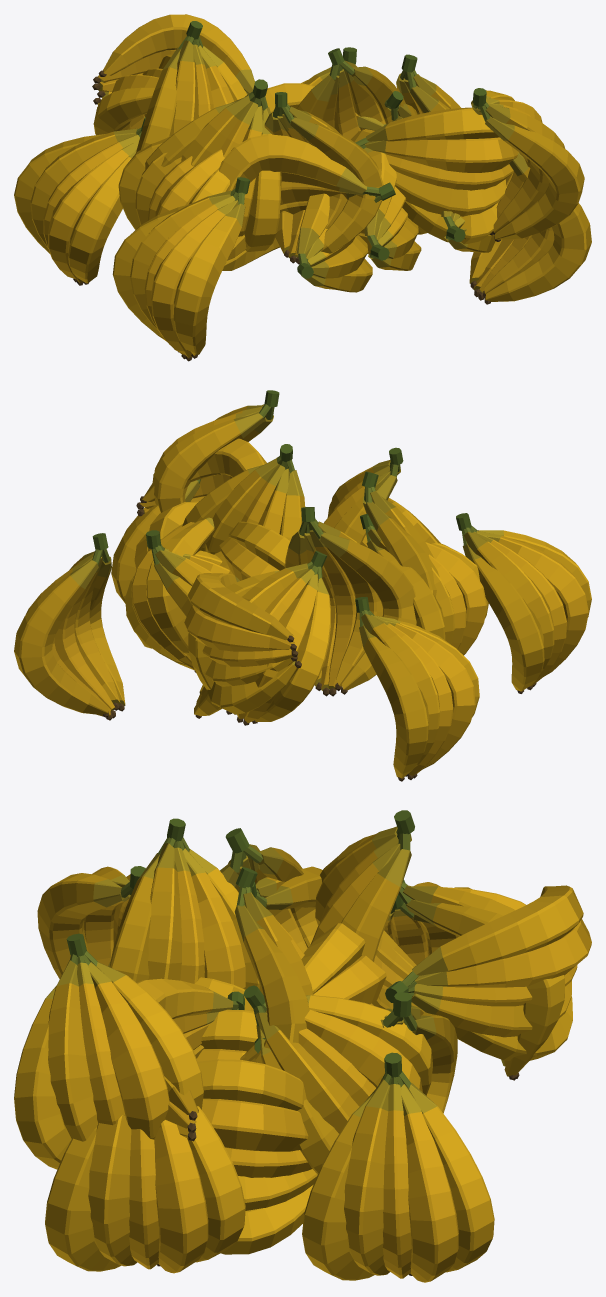
Rendered from bananaRack.glb.
3 views of the same model, one above another, from view 1: azimuth 30°, elevation 25°; view 2: azimuth 150°, elevation 25°; view 3: azimuth 270°, elevation 25° (orthographic). The views are drawn at different scales.
Visible parts, largest first — view 1: CargoBundle16, CargoBundle04, CargoBundle18, CargoBundle11, CargoBundle17, CargoBundle12, CargoBundle10, CargoBundle09, CargoBundle15, CargoBundle03, CargoBundle07, CargoBundle13 (+7 smaller); view 2: CargoBundle16, CargoBundle18, CargoBundle19, CargoBundle15, CargoBundle07, CargoBundle06, CargoBundle13, CargoBundle03, CargoBundle05, CargoBundle11, CargoBundle12, CargoBundle08 (+6 smaller); view 3: CargoBundle19, CargoBundle11, CargoBundle17, CargoBundle07, CargoBundle09, CargoBundle02, CargoBundle05, CargoBundle15, CargoBundle16, CargoBundle13, CargoBundle06, CargoBundle04 (+6 smaller).
Part boxes in pixels (box(x1,y1,x2,y2)): CargoBundle16: box(112, 177, 250, 361); CargoBundle04: box(354, 107, 519, 244); CargoBundle18: box(14, 117, 145, 285); CargoBundle11: box(471, 88, 584, 241); CargoBundle17: box(469, 152, 591, 304); CargoBundle12: box(145, 79, 281, 251); CargoBundle10: box(218, 134, 395, 270); CargoBundle09: box(264, 92, 383, 264); CargoBundle15: box(135, 21, 247, 153); CargoBundle03: box(118, 136, 229, 229); CargoBundle07: box(92, 14, 254, 105); CargoBundle13: box(296, 48, 405, 139); CargoBundle16: box(456, 513, 591, 693); CargoBundle18: box(355, 597, 479, 781); CargoBundle19: box(14, 533, 125, 720); CargoBundle15: box(284, 507, 416, 696); CargoBundle07: box(184, 573, 301, 714); CargoBundle06: box(188, 550, 330, 725); CargoBundle13: box(182, 444, 305, 554); CargoBundle03: box(360, 513, 488, 655); CargoBundle05: box(125, 517, 214, 672); CargoBundle11: box(152, 390, 279, 512); CargoBundle12: box(362, 471, 439, 597); CargoBundle08: box(146, 530, 229, 718); CargoBundle19: box(302, 1052, 494, 1282); CargoBundle11: box(14, 933, 203, 1169); CargoBundle17: box(45, 1106, 245, 1273); CargoBundle07: box(385, 885, 591, 1060); CargoBundle09: box(109, 818, 263, 995); CargoBundle02: box(198, 1059, 317, 1254); CargoBundle05: box(243, 985, 432, 1174); CargoBundle15: box(310, 810, 425, 1012); CargoBundle16: box(37, 866, 145, 978); CargoBundle13: box(234, 867, 313, 1063); CargoBundle06: box(398, 879, 564, 1080); CargoBundle04: box(137, 978, 244, 1141).
Bounding box in the file's own units: 1.15 × 0.6496 × 1.
